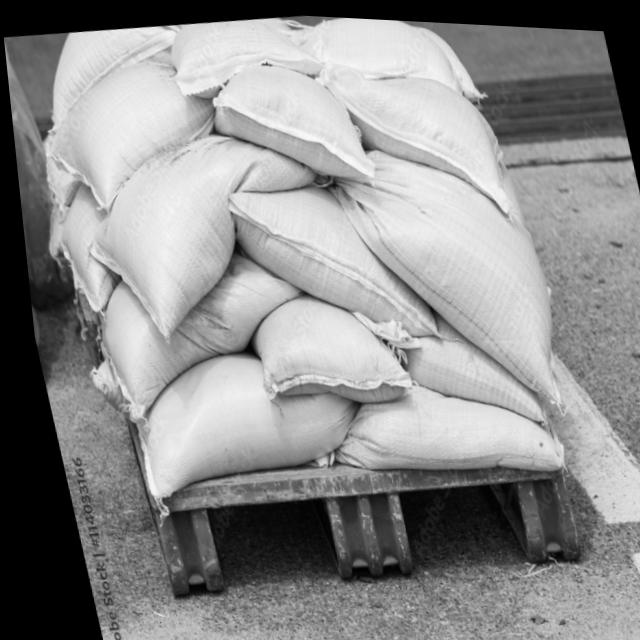sack: (314, 124, 567, 422), (59, 115, 345, 354), (58, 235, 322, 430), (110, 331, 368, 509), (220, 166, 435, 354), (313, 41, 512, 227), (26, 47, 232, 219), (308, 358, 562, 493), (198, 47, 373, 190), (233, 277, 408, 413), (381, 297, 540, 434), (23, 17, 193, 135), (287, 12, 463, 106), (160, 7, 323, 100), (41, 178, 120, 314)
